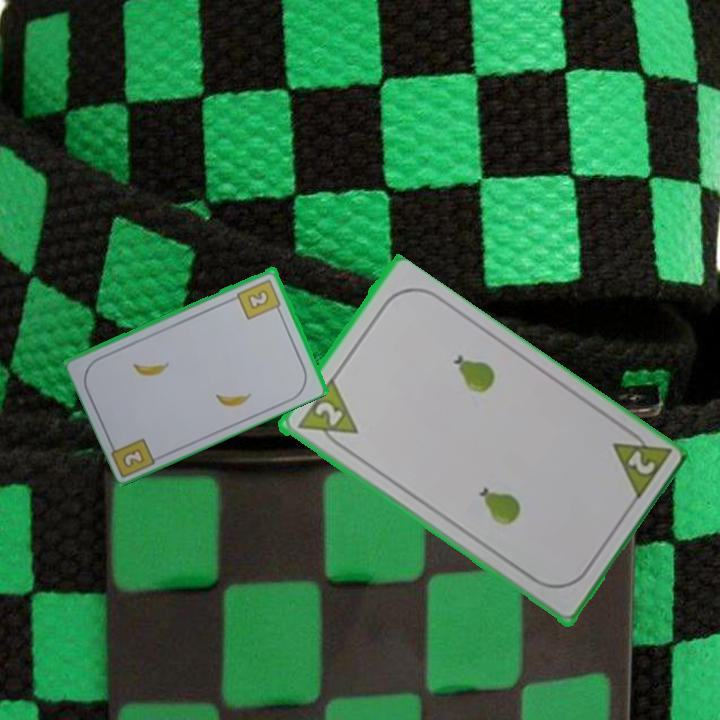2b: (234, 275, 284, 322), (121, 447, 145, 468)
2p: (608, 422, 673, 504), (292, 376, 360, 454)
